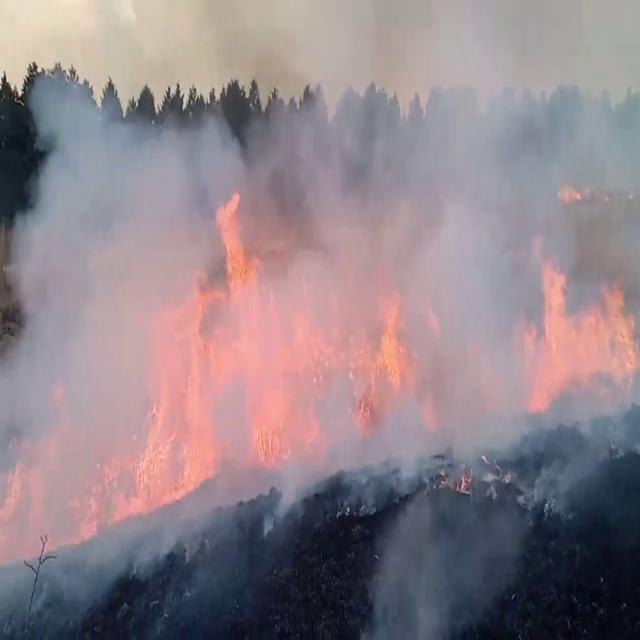Fire: (130, 180, 322, 546), (528, 240, 640, 414)
Smoke: (2, 14, 640, 472), (354, 476, 570, 638)
